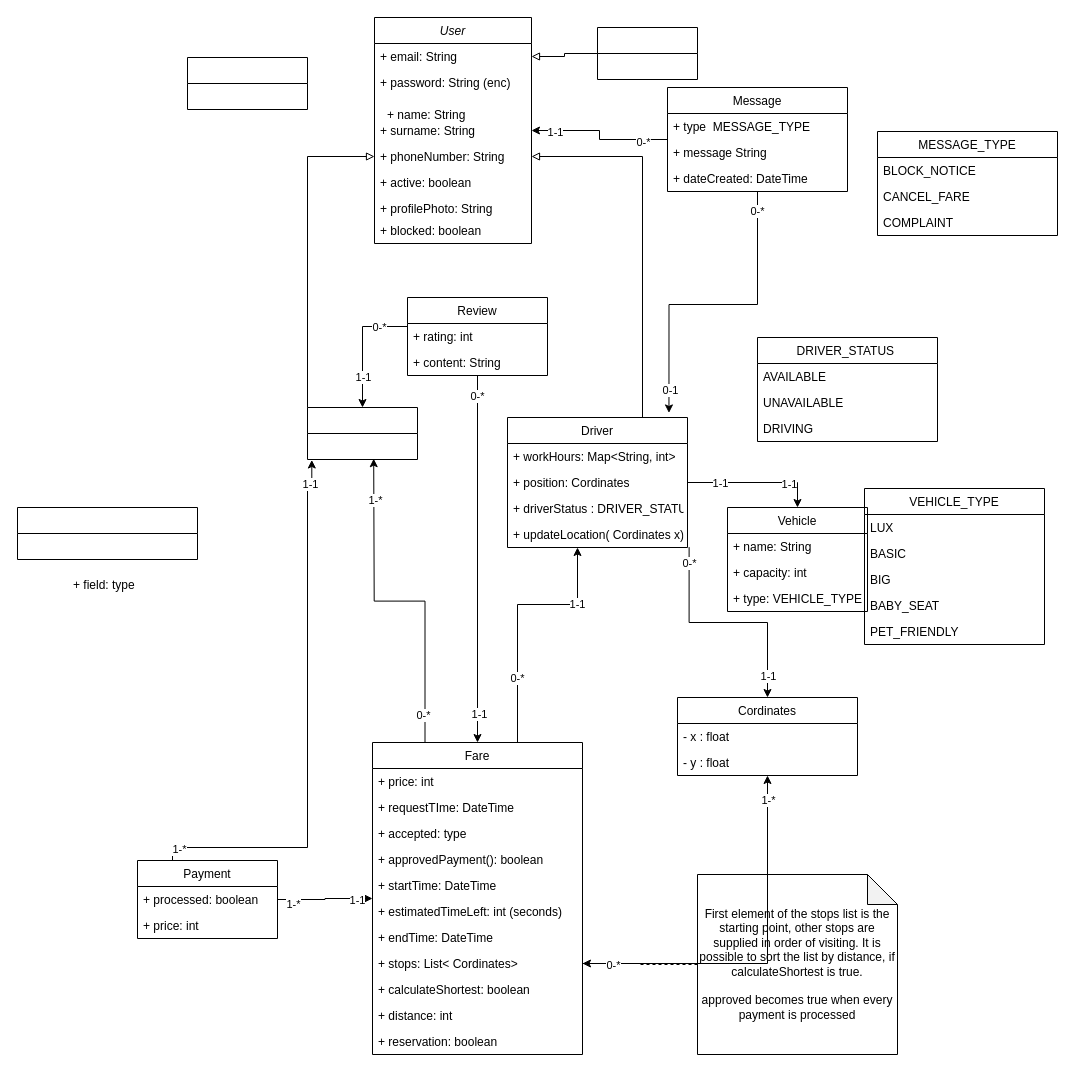
Image size: 1075x1075. Some labels were removed from this diagram. The shapes that lost their labels are listed below. From the top down, each one's centre as x and y in pixels, then its label:
At (x=647, y=53): "Admin".
At (x=247, y=83): "Non-registered".
At (x=362, y=433): "RegisterClient".
At (x=107, y=533): "Classname".
